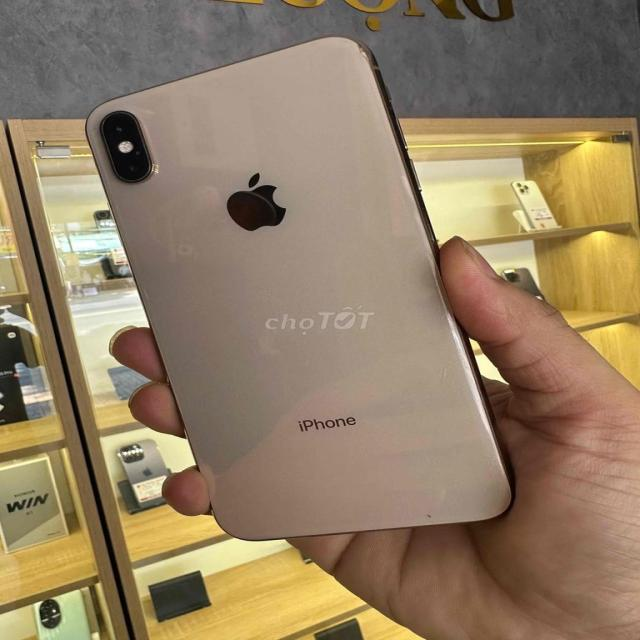gen_x_xs: (87, 38, 511, 539)
